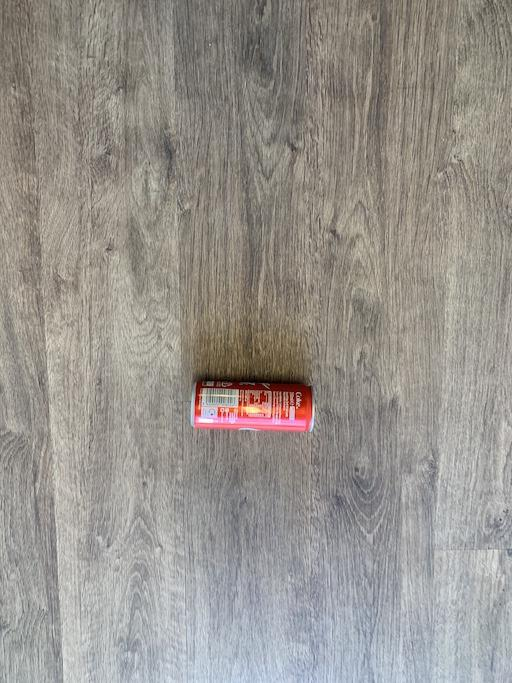Aluminum can: (170, 354, 368, 472)
